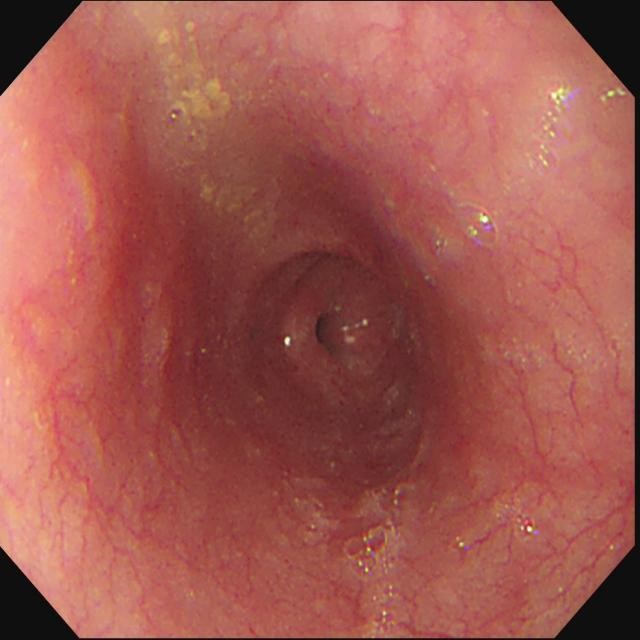I: (255, 248, 419, 445)
J: (157, 20, 232, 130)
T: (346, 521, 397, 638), (456, 200, 501, 252)
